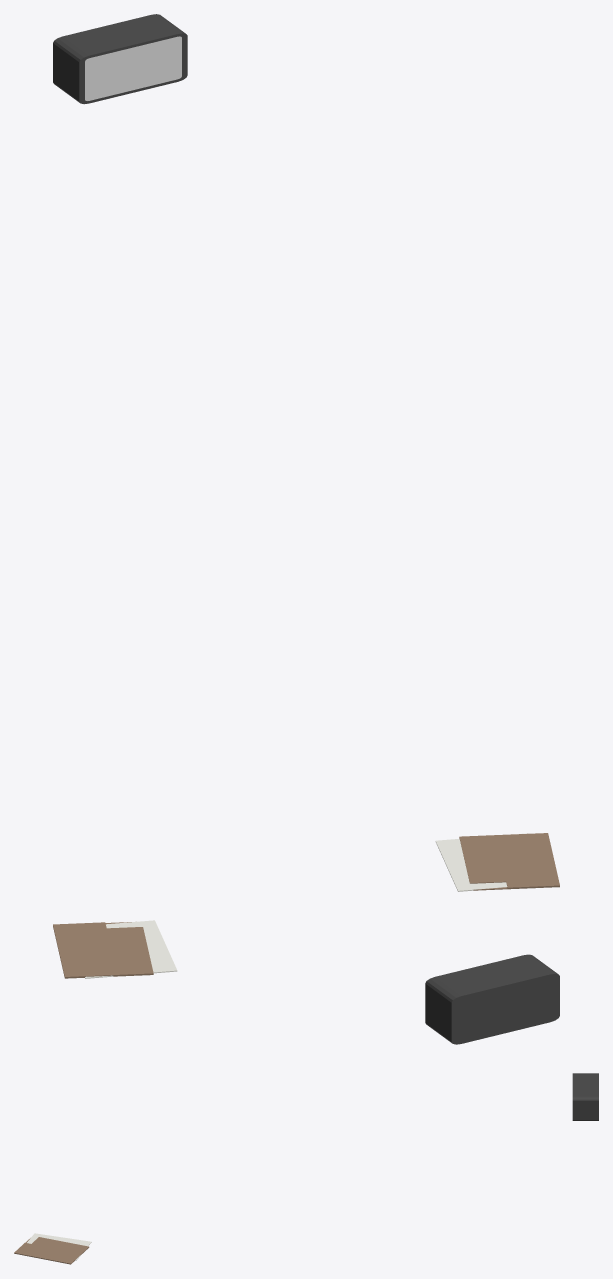
The model's file is Letrero.fbx.
3 views of the same model, one above another, from view 1: azimuth 30°, elevation 25°; view 2: azimuth 210°, elevation 25°; view 3: azimuth 270°, elevation 25° (orthographic). The views are drawn at different scales.
Visible parts, largest first — view 1: Cube.002, Carpeta; view 2: Cube.002, Carpeta; view 3: Carpeta, Cube.002.
Boxes of the visible parts, bbox=[...] form: Cube.002: bbox=[53, 14, 187, 104]; Carpeta: bbox=[435, 833, 559, 891]; Cube.002: bbox=[425, 954, 559, 1044]; Carpeta: bbox=[53, 920, 177, 978]; Carpeta: bbox=[14, 1233, 91, 1264]; Cube.002: bbox=[572, 1073, 598, 1120].
Size of the model in its own units: 34.58 by 131 by 49.51.
